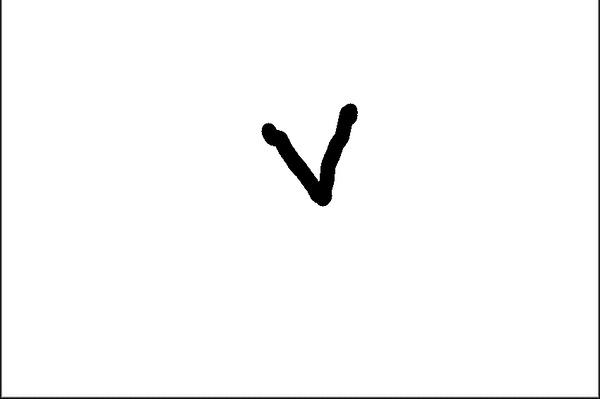V: (257, 99, 380, 208)
